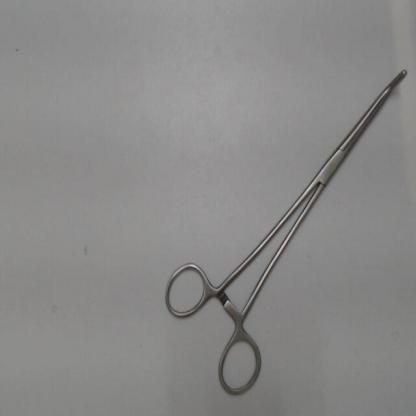Lahey Forceps: (161, 60, 414, 401)
